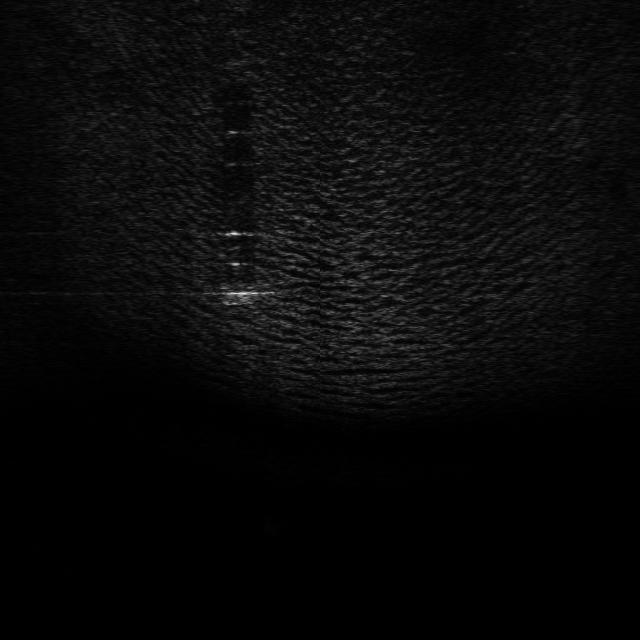cube: (218, 280, 258, 306)
